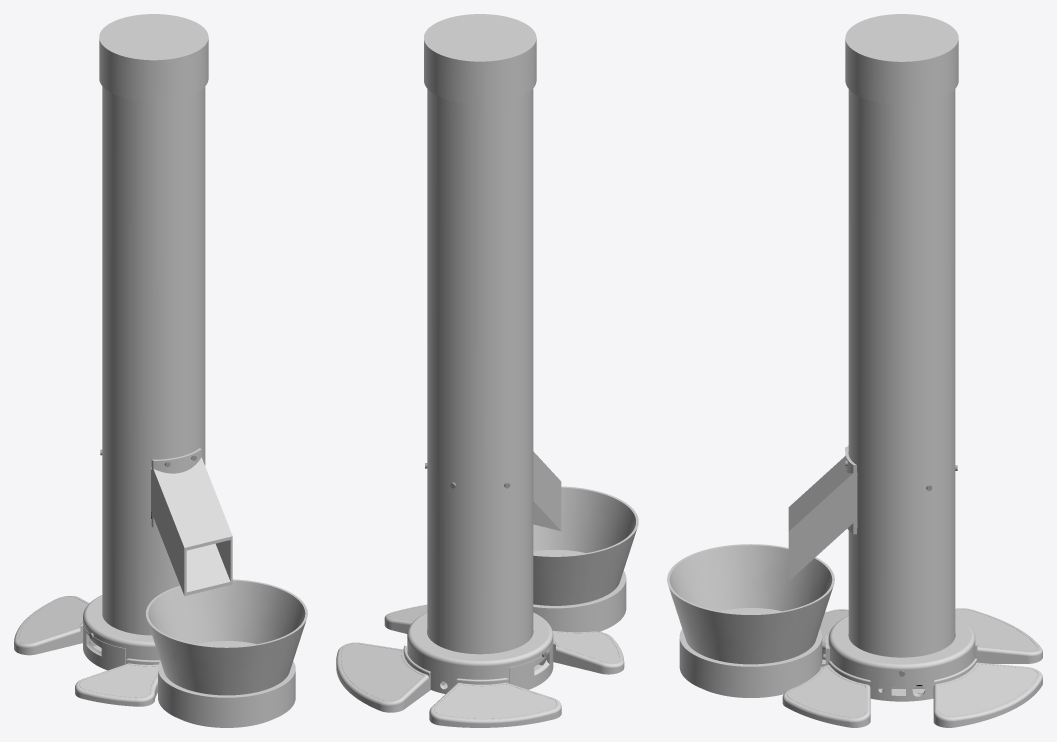
The model's file is alimentador.min.glb.
3 views of the same model, side by side, from view 1: azimuth 30°, elevation 25°; view 2: azimuth 150°, elevation 25°; view 3: azimuth 270°, elevation 25° (orthographic). The views are drawn at different scales.
Visible parts, largest first — view 1: REF_tubo_PVC_DN100, REF_vasilha_maior, REF_cap_superior, P04_bica, P08_plataforma, P06_pedestal, P13_tampa_TE, P13_tampa_FE, P12_pata_FE, P12_pata_TE, P11_gaveta_pilhas; view 2: REF_tubo_PVC_DN100, REF_vasilha_maior, REF_cap_superior, P06_pedestal, P13_tampa_TD, P13_tampa_TE, P08_plataforma, P12_pata_TE, P12_pata_TD, P04_bica, P13_tampa_FE, P12_pata_FE (+1 smaller); view 3: REF_tubo_PVC_DN100, REF_vasilha_maior, REF_cap_superior, P06_pedestal, P04_bica, P08_plataforma, P13_tampa_TD, P13_tampa_FD, P12_pata_TD, P13_tampa_TE, P12_pata_FD, P12_pata_TE.
Boxes of the visible parts, x1=… form: REF_tubo_PVC_DN100: x1=102, y1=86, x2=205, y2=635; REF_vasilha_maior: x1=146, y1=579, x2=307, y2=695; REF_cap_superior: x1=99, y1=14, x2=208, y2=101; P04_bica: x1=151, y1=448, x2=232, y2=596; P08_plataforma: x1=158, y1=661, x2=295, y2=726; P06_pedestal: x1=83, y1=595, x2=159, y2=660; P13_tampa_TE: x1=19, y1=596, x2=88, y2=643; P13_tampa_FE: x1=79, y1=665, x2=157, y2=697; P12_pata_FE: x1=75, y1=658, x2=160, y2=706; P12_pata_TE: x1=14, y1=596, x2=89, y2=655; P11_gaveta_pilhas: x1=83, y1=623, x2=125, y2=670; REF_tubo_PVC_DN100: x1=427, y1=88, x2=533, y2=654; REF_vasilha_maior: x1=533, y1=486, x2=638, y2=605; REF_cap_superior: x1=424, y1=14, x2=536, y2=104; P06_pedestal: x1=407, y1=612, x2=553, y2=694; P13_tampa_TD: x1=341, y1=643, x2=423, y2=700; P13_tampa_TE: x1=434, y1=684, x2=556, y2=718; P08_plataforma: x1=533, y1=571, x2=626, y2=632; P12_pata_TE: x1=429, y1=678, x2=561, y2=727; P12_pata_TD: x1=336, y1=642, x2=430, y2=712; P04_bica: x1=533, y1=451, x2=561, y2=530; P13_tampa_FE: x1=553, y1=631, x2=619, y2=663; P12_pata_FE: x1=552, y1=630, x2=624, y2=674; REF_tubo_PVC_DN100: x1=848, y1=89, x2=955, y2=657; REF_vasilha_maior: x1=667, y1=544, x2=834, y2=664; REF_cap_superior: x1=845, y1=14, x2=958, y2=104; P06_pedestal: x1=828, y1=615, x2=975, y2=701; P04_bica: x1=788, y1=445, x2=857, y2=581; P08_plataforma: x1=679, y1=629, x2=822, y2=696; P13_tampa_TD: x1=938, y1=664, x2=1037, y2=716; P13_tampa_FD: x1=787, y1=666, x2=865, y2=717; P12_pata_TD: x1=933, y1=658, x2=1042, y2=727; P13_tampa_TE: x1=955, y1=609, x2=1037, y2=651; P12_pata_FD: x1=782, y1=661, x2=870, y2=727; P12_pata_TE: x1=955, y1=608, x2=1042, y2=663.
Bounding box in the file's own units: 252 × 666 × 358.
Materials: 4 (4 with a texture image).
